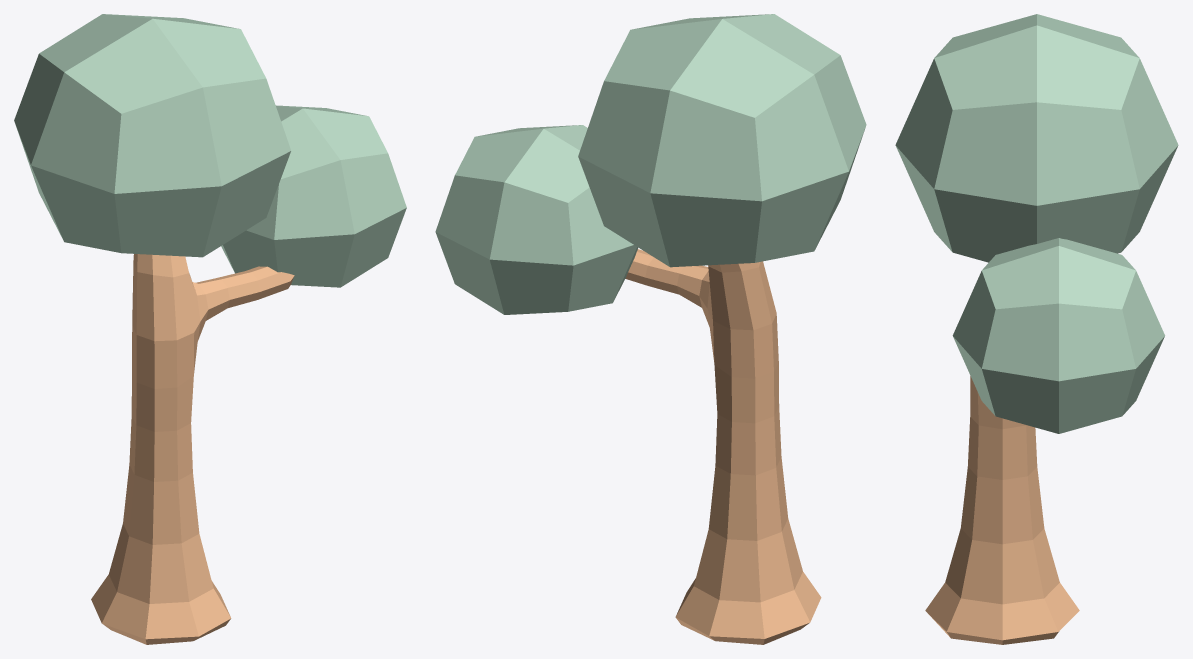
The model's file is Arbre1_small_lowpolly.fbx.
3 renders of one model, left to right at view 1: azimuth 30°, elevation 25°; view 2: azimuth 150°, elevation 25°; view 3: azimuth 270°, elevation 25°, orthographic. The views are drawn at different scales.
Visible parts, largest first — view 1: Arbre1_small_lowpolly; view 2: Arbre1_small_lowpolly; view 3: Arbre1_small_lowpolly.
Part boxes in pixels (box(x1,y1,x2,y2)): Arbre1_small_lowpolly: box(14, 14, 406, 644); Arbre1_small_lowpolly: box(435, 14, 866, 644); Arbre1_small_lowpolly: box(895, 14, 1178, 644).
Bounding box in the file's own units: 2 × 3 × 1.28.
